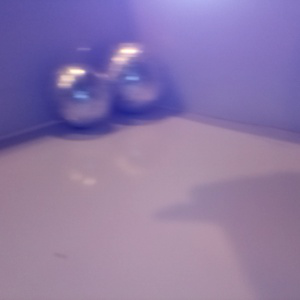alive_ball: (106, 42, 163, 115), (50, 62, 112, 128)
